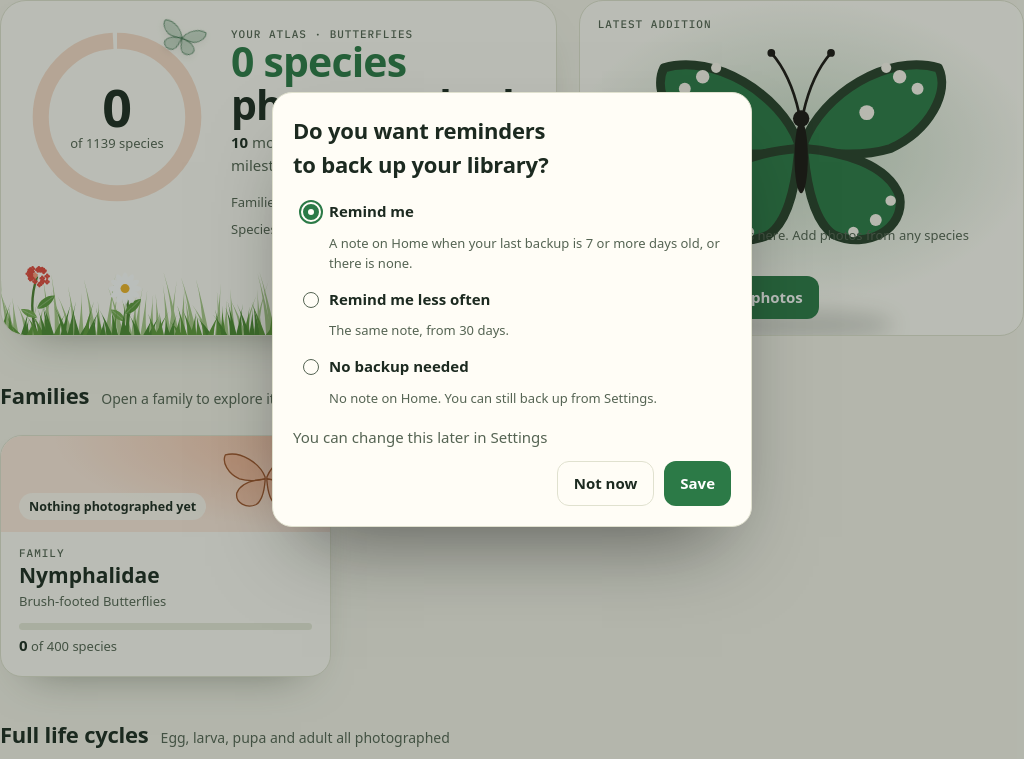
Test case: a library that was never asked gets the preference dialog once: Remind me chosen, Save saves it, and the line follows
This screenshot has width=1024, height=759.
Check: the dialog "Do you want reminders to back up your library?" shows "You can change this later in Settings", box [293,427,548,447]
What coordinates should you click on to do the following:
click the radio button labelled "Remind me less often"
I would click on:
 (311, 300)
Its box is [303,292,319,308].
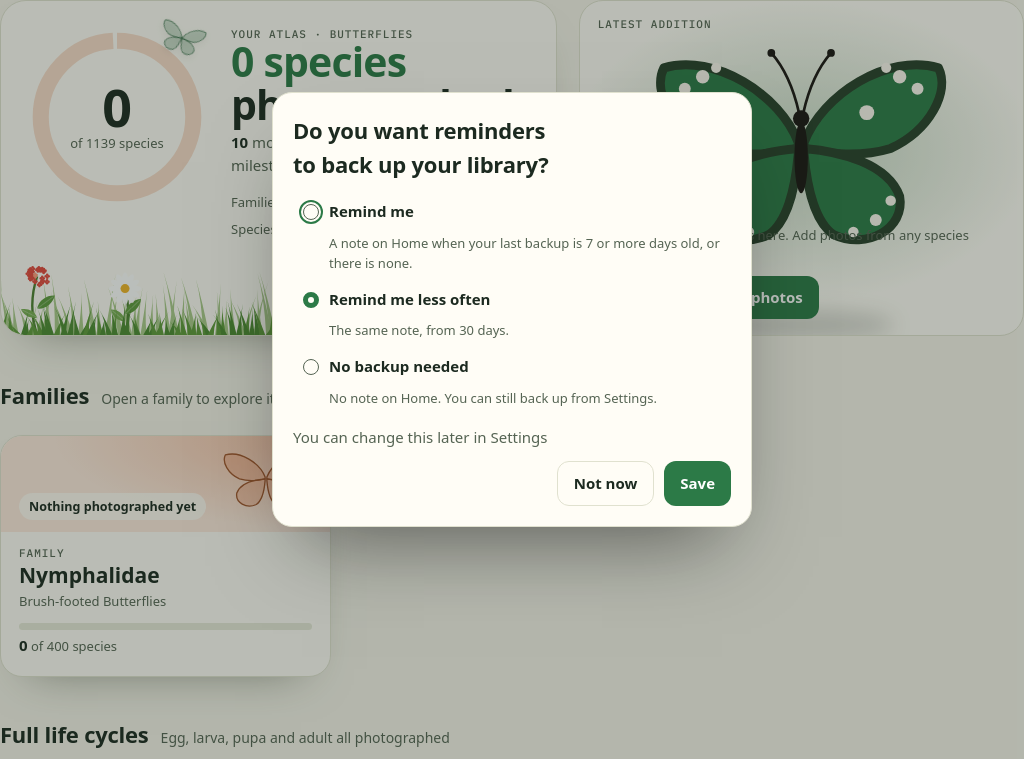
What coordinates should you click on to do the following:
click the button "Save"
I would click on:
 (698, 484)
Its box is [664,461,731,506].
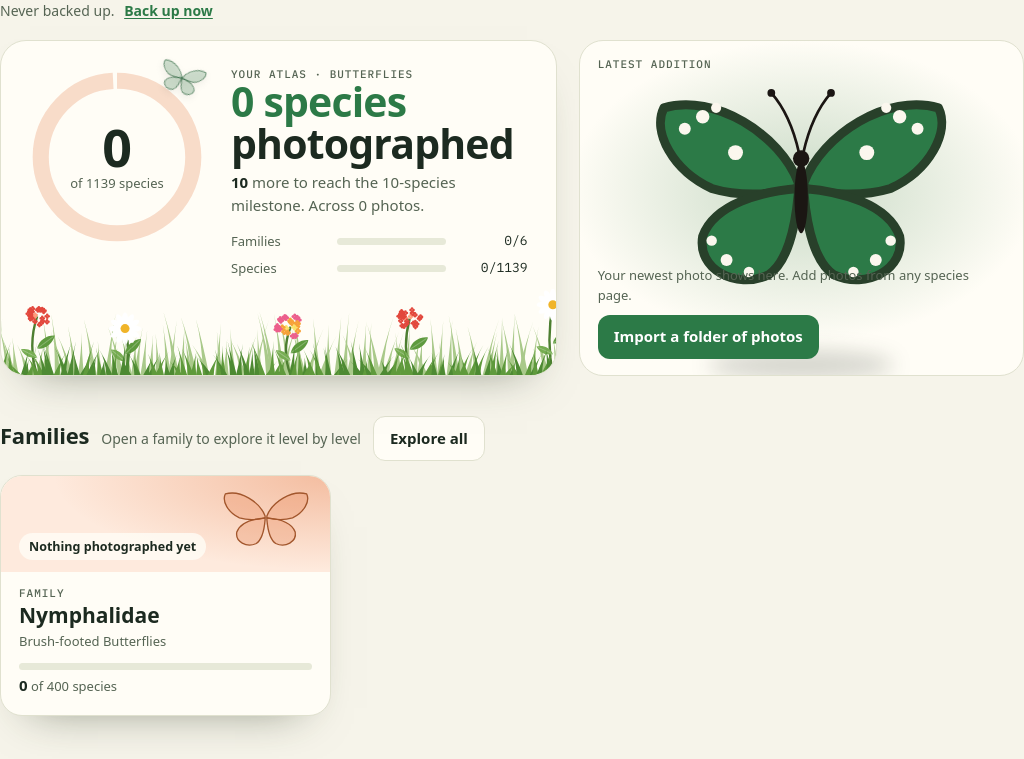
Check: the dialog is gone
Check: the text "Never backed up." is shown, box [0,1,118,20]
